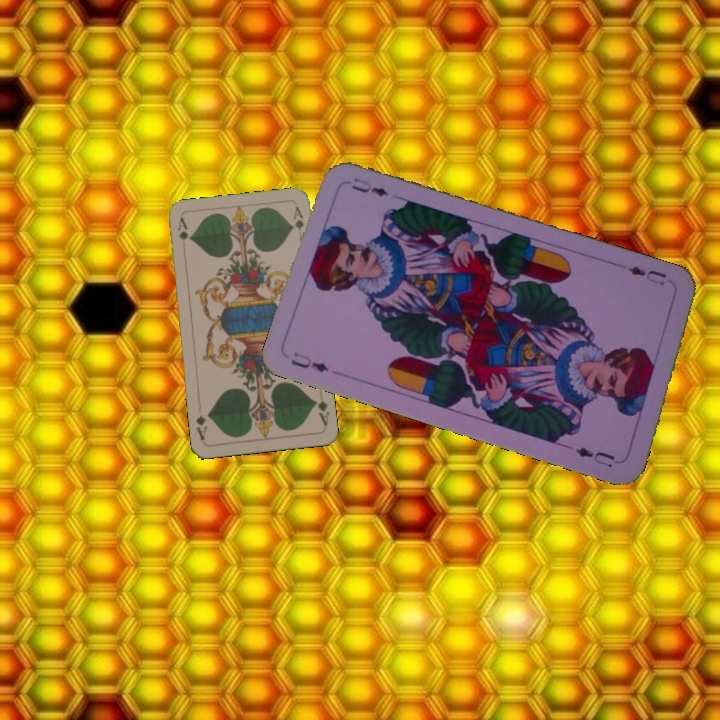EU: (624, 261, 669, 288), (287, 348, 331, 375)
GA: (311, 389, 332, 428), (173, 214, 191, 255)
